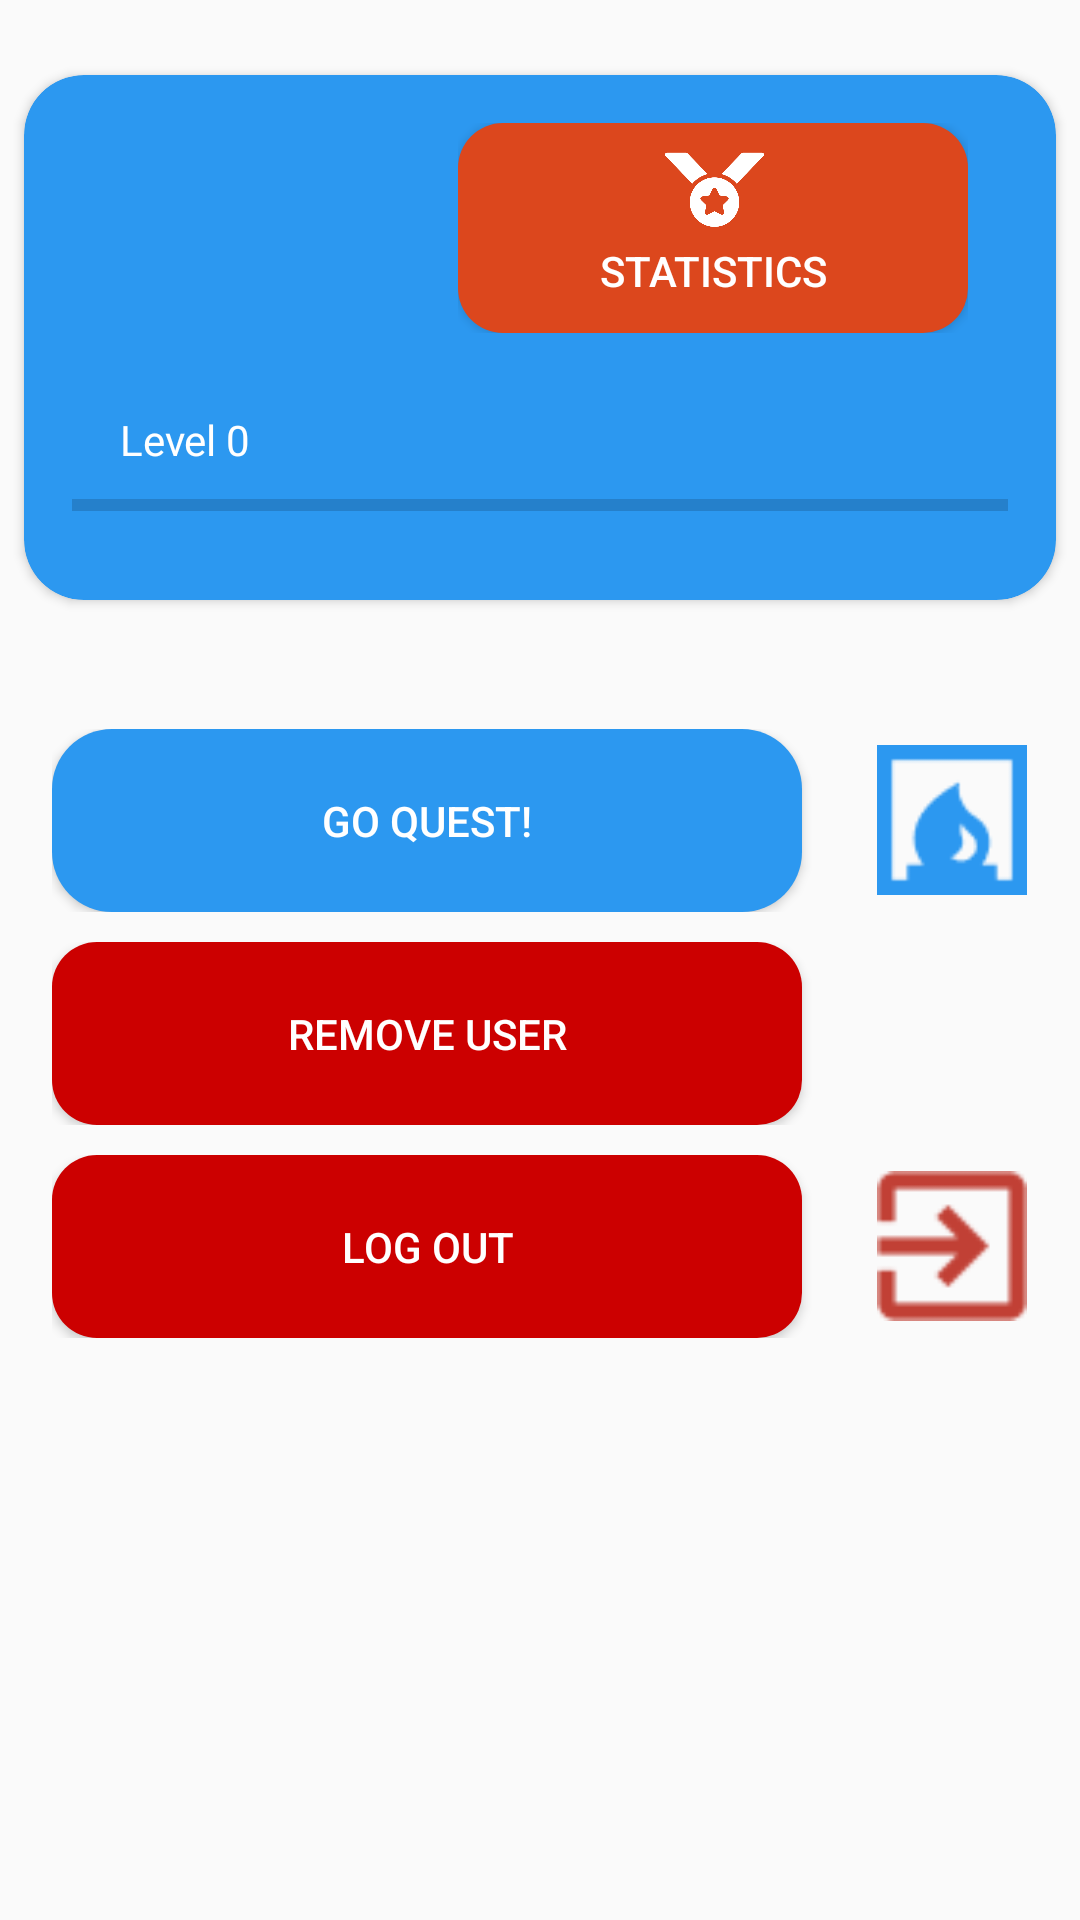

Point at icon controls on the screen. Image size 1080x1920, points as point (x, y).
achievement: point (714, 189)
